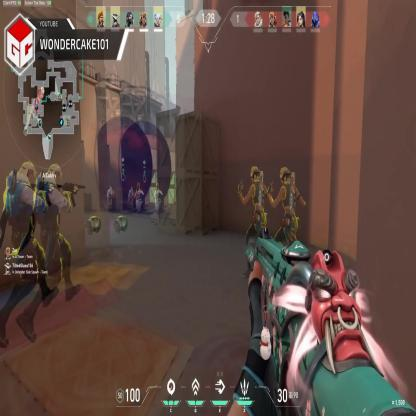enemy: (7, 156, 48, 350), (243, 166, 270, 272), (106, 181, 115, 214), (134, 183, 142, 212), (127, 186, 132, 210)
enemy_head: (21, 162, 34, 187), (249, 166, 259, 185), (108, 186, 112, 192), (137, 183, 140, 189), (130, 186, 132, 190)
